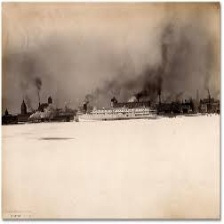smoke: (11, 11, 217, 102)
